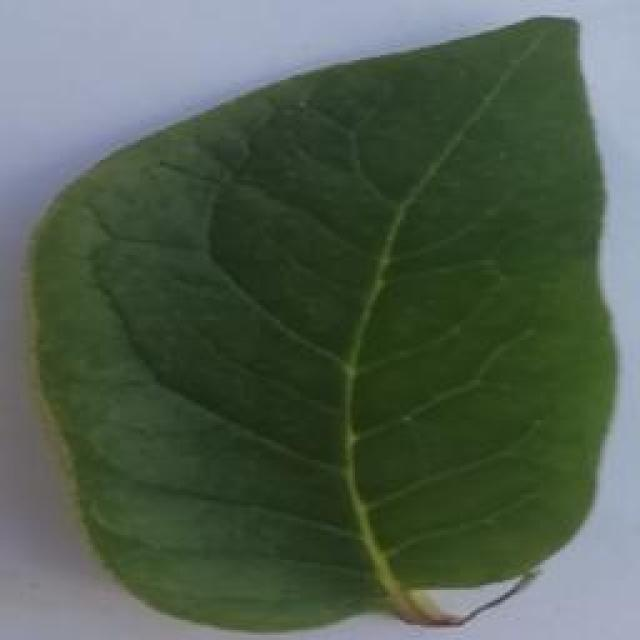Potato_Healthy: (28, 16, 610, 629)
